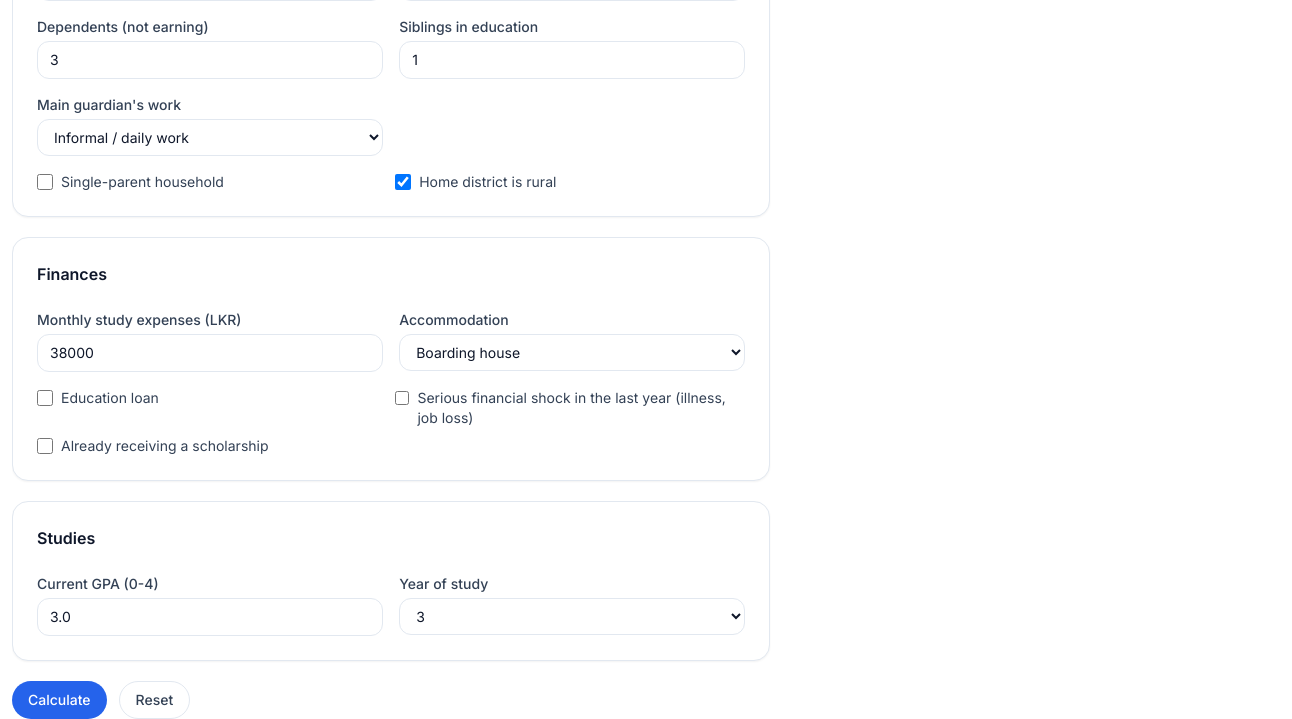
Test case: AssessmentTool › calculates a need index and ranked scholarships entirely on-device
The image size is (1292, 719).
(page scrolled)
Click the button "Calculate": click(59, 700) [12,681,107,718]
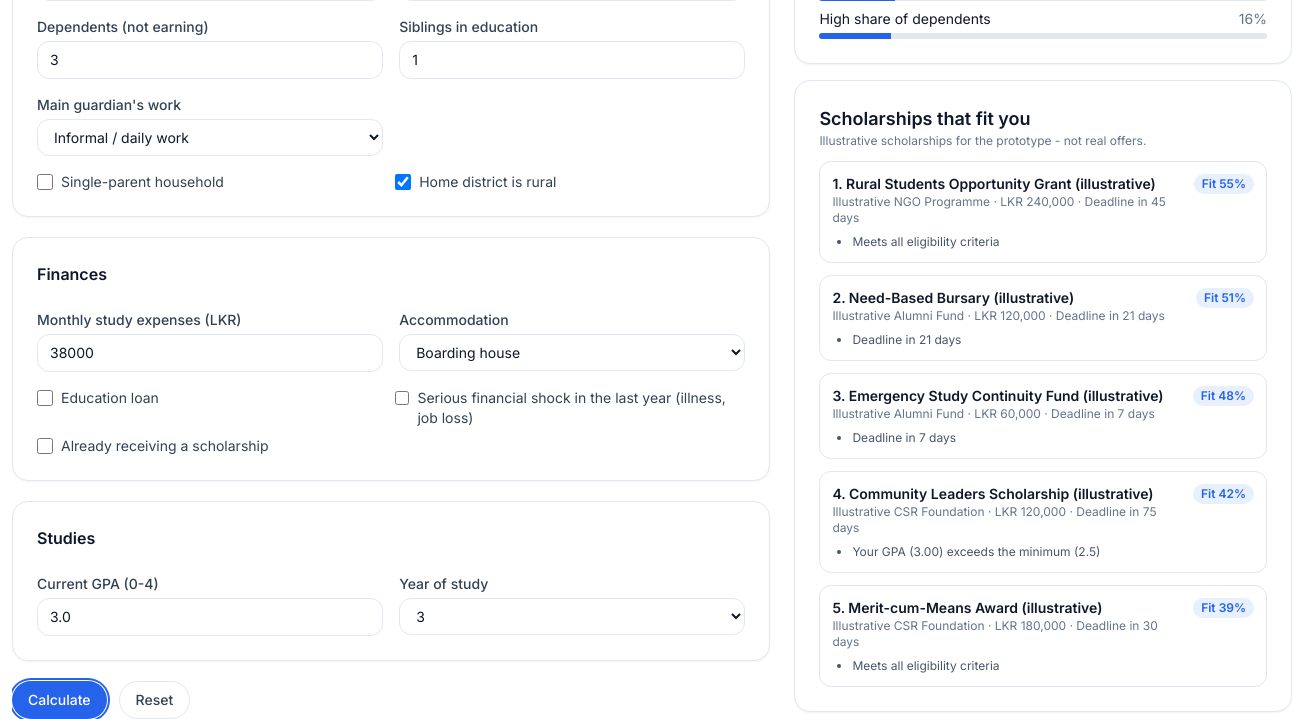
expect the 3rd list item is shown: met, box [819,161,1267,263]
